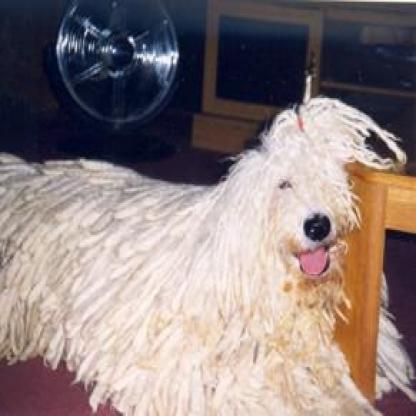komondor: (0, 95, 403, 412)
